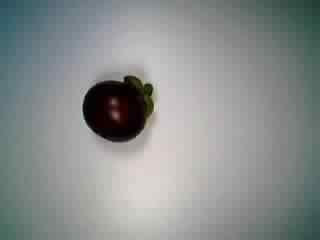mangosteen: (76, 73, 161, 145)
